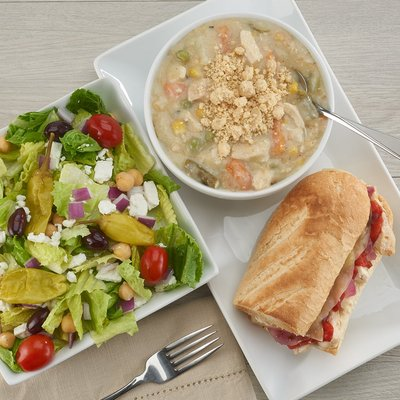burger: (96, 324, 224, 400)
salad: (274, 69, 400, 167)
soup: (232, 168, 396, 357)
sushi: (144, 11, 336, 202)
